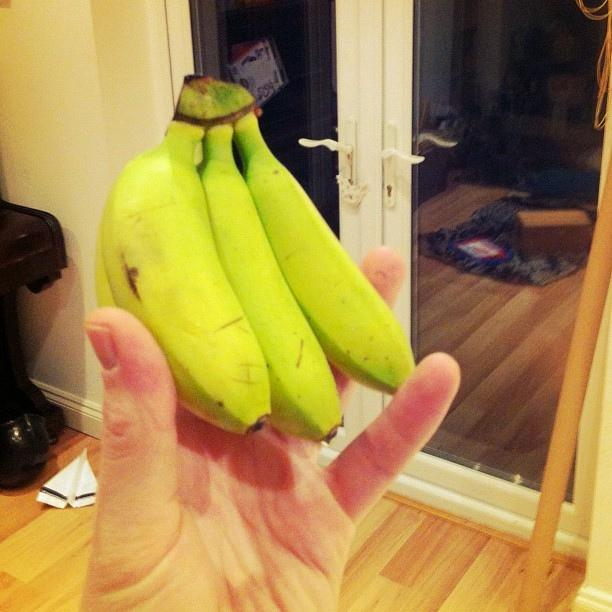banana: (94, 121, 271, 436), (232, 113, 416, 396), (195, 121, 344, 444)
